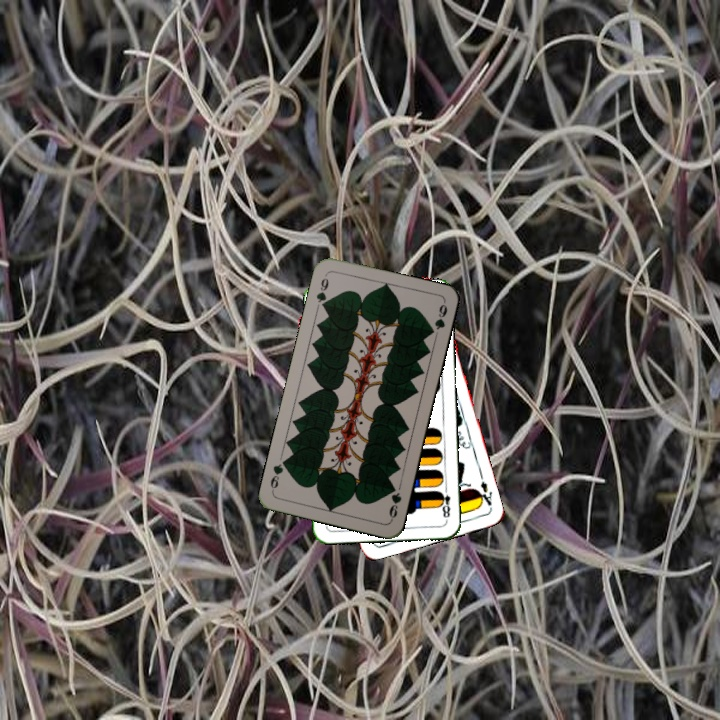E8: (435, 482, 453, 523)
EA: (473, 477, 495, 508)
G9: (385, 481, 404, 523), (312, 271, 331, 312)
